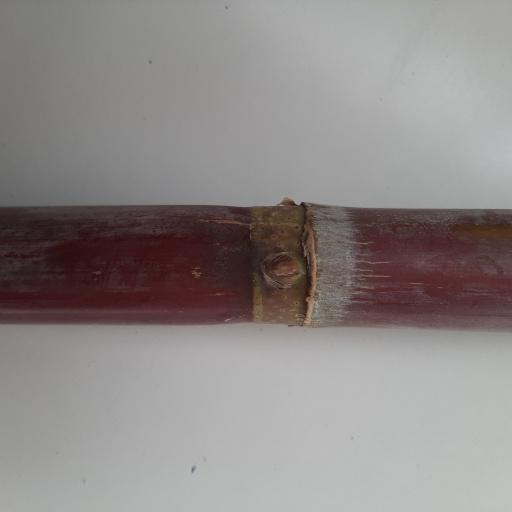Bud: (260, 253, 308, 287)
